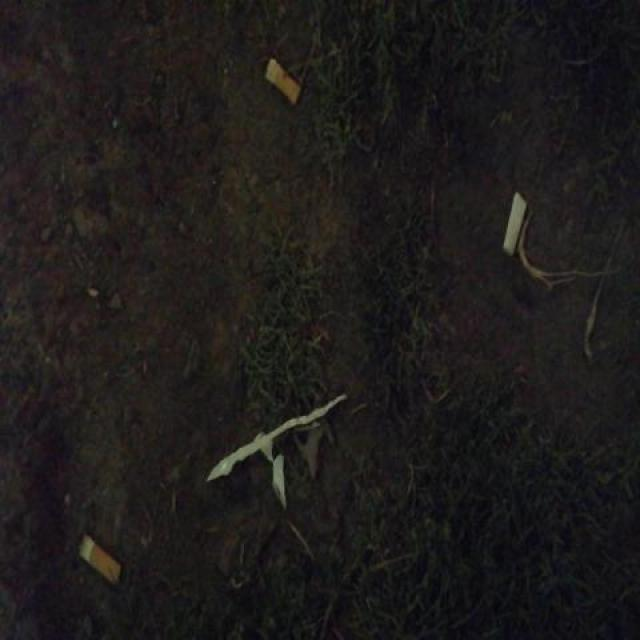non-organic waste: (73, 528, 123, 589), (498, 188, 531, 260), (260, 54, 303, 109)
